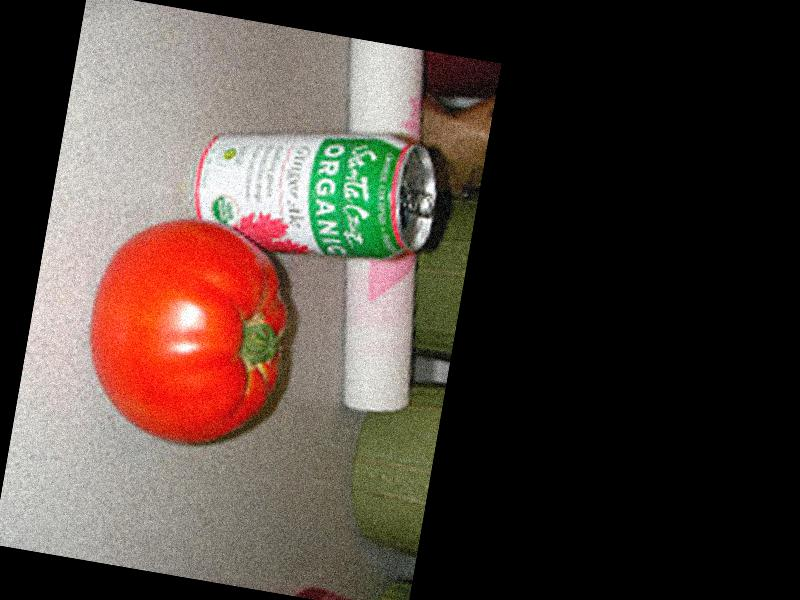Tomato: (75, 207, 300, 454)
